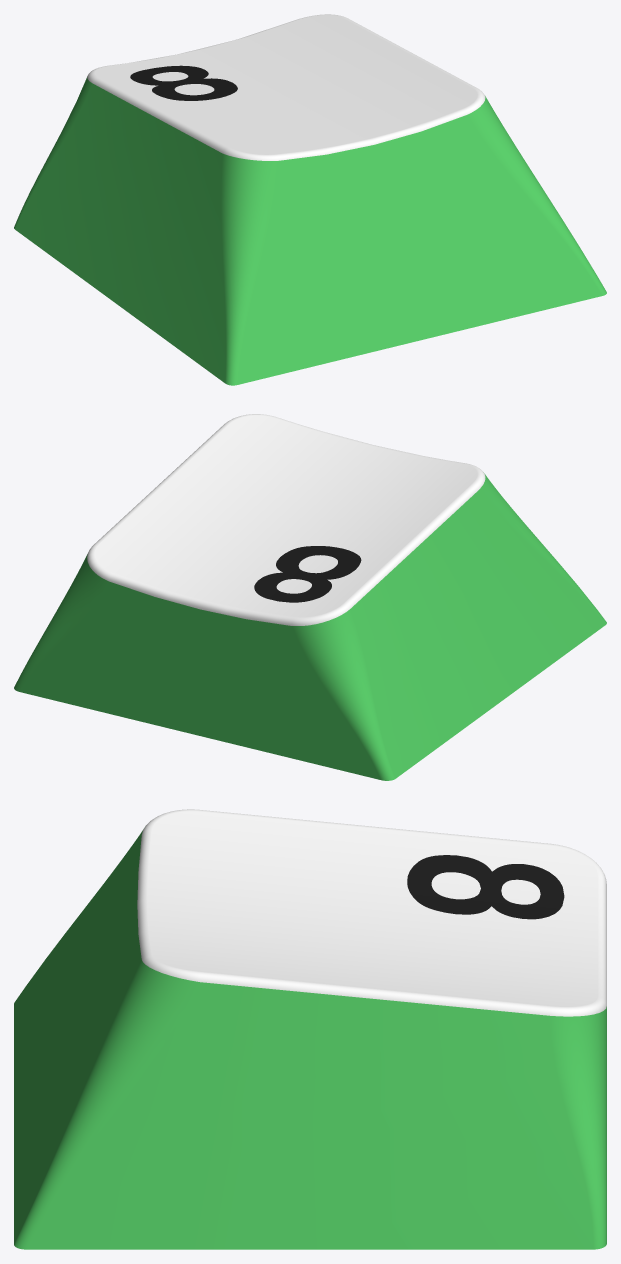
Rendered from NUM 8 Mono.fbx.
The picture shows the model from 3 angles, top to bottom: view 1: azimuth 30°, elevation 25°; view 2: azimuth 150°, elevation 25°; view 3: azimuth 270°, elevation 25°; orthographic projection. The views are drawn at different scales.
Parts seen in each view (by area): view 1: Body1; view 2: Body1; view 3: Body1.
Boxes of the visible parts, <box> form: Body1: <box>14,14,606,385</box>; Body1: <box>14,414,606,780</box>; Body1: <box>14,809,606,1249</box>.
Size of the model in its own units: 18 by 7.85 by 18.
